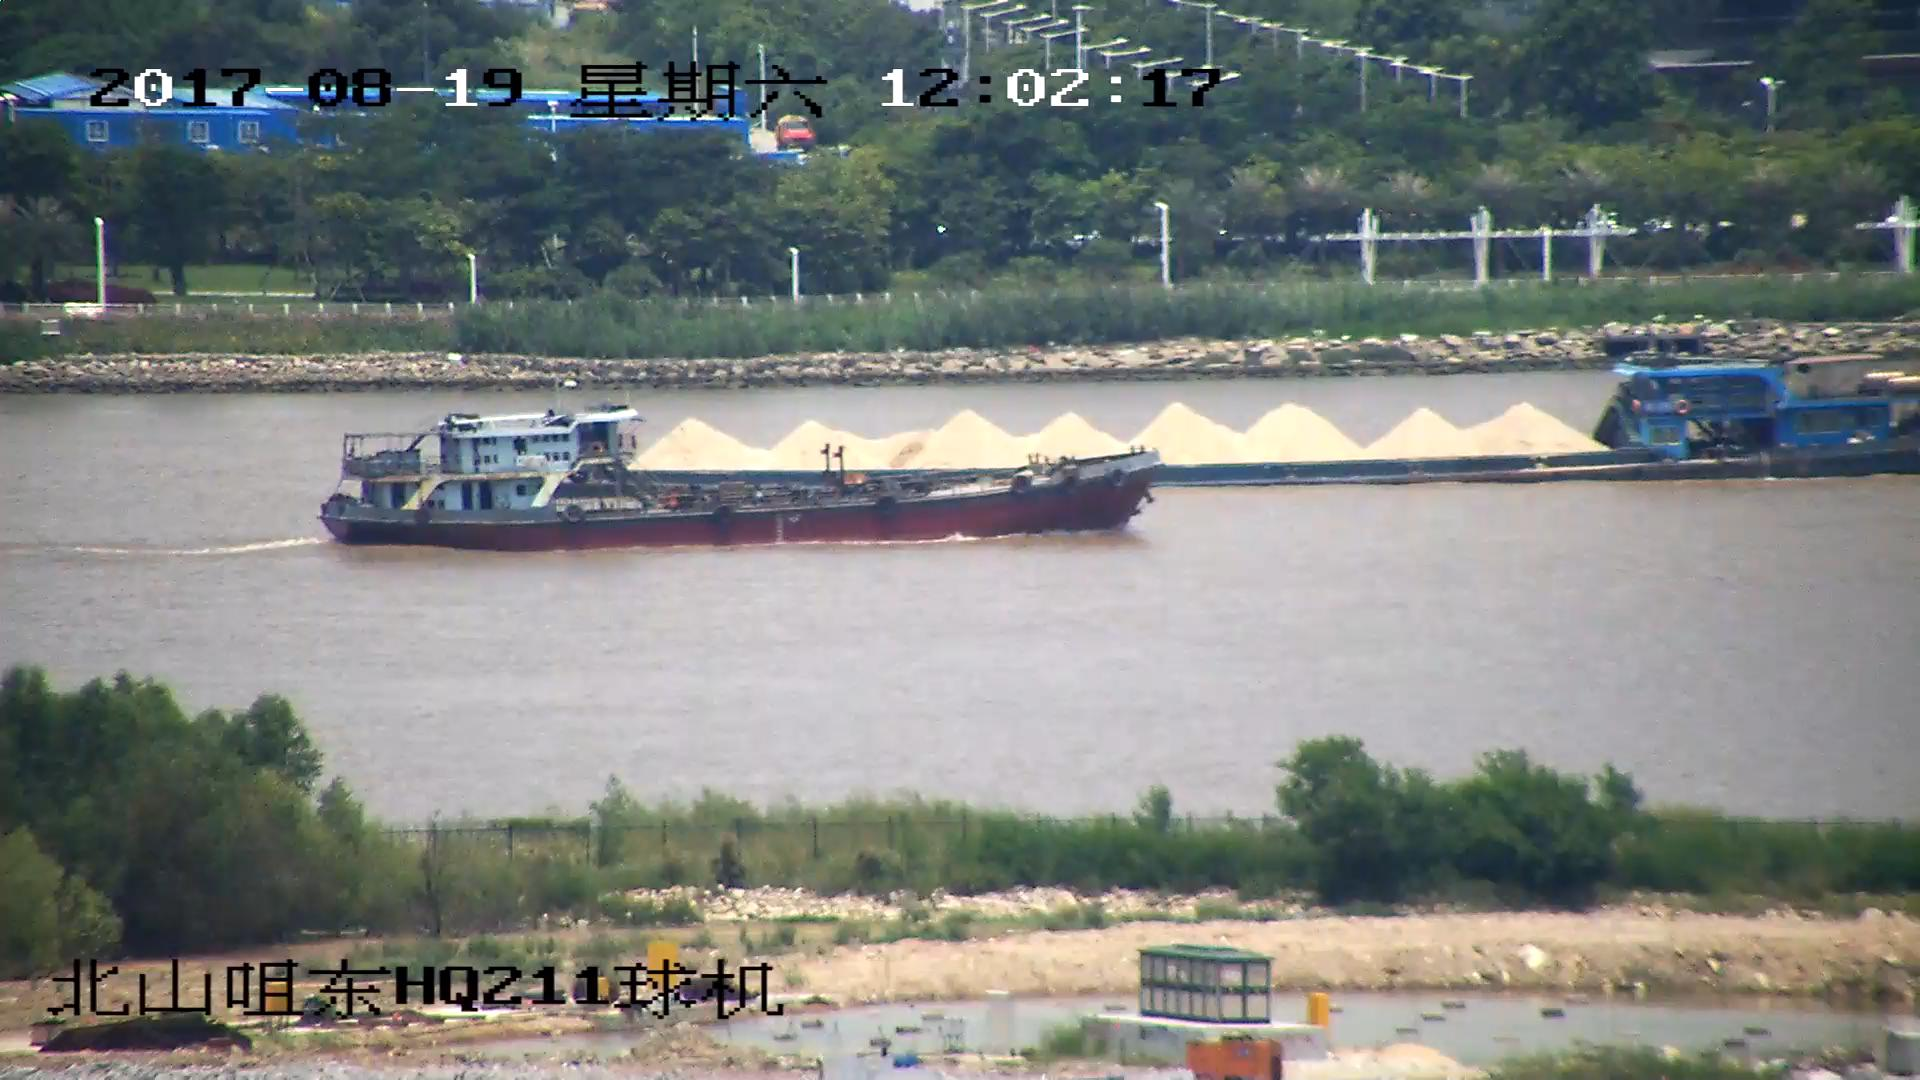bulk cargo carrier: (314, 412, 1169, 551)
ore carrier: (607, 357, 1919, 483)
